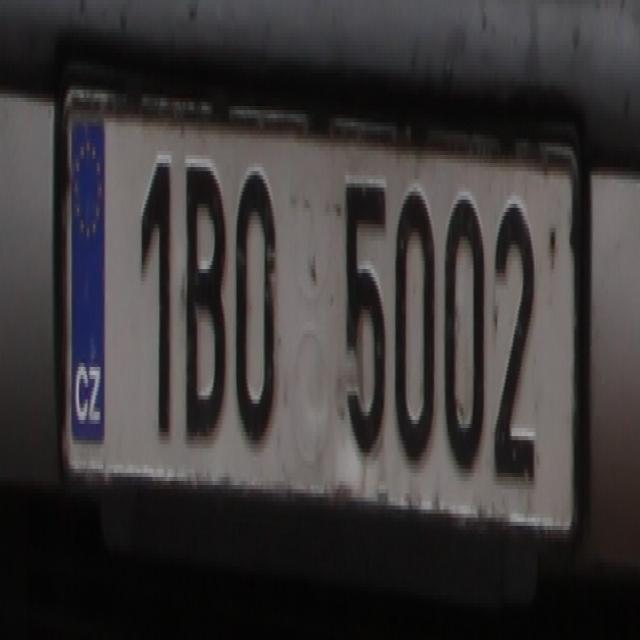0: (442, 187, 487, 473), (235, 167, 278, 449), (393, 184, 435, 461)
1: (141, 147, 173, 440)
2: (491, 200, 538, 485)
5: (341, 167, 386, 449)
B: (178, 155, 226, 444)
